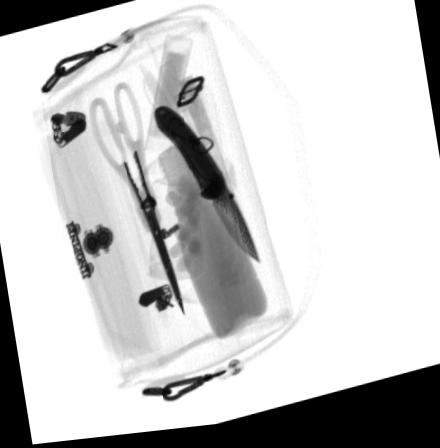Knife: (153, 108, 260, 270)
Scissors: (88, 83, 183, 321)
